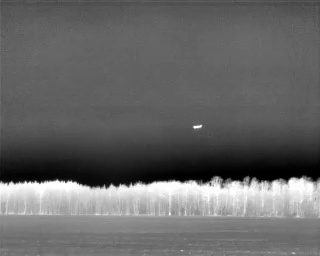DRONE: (189, 120, 206, 134)
